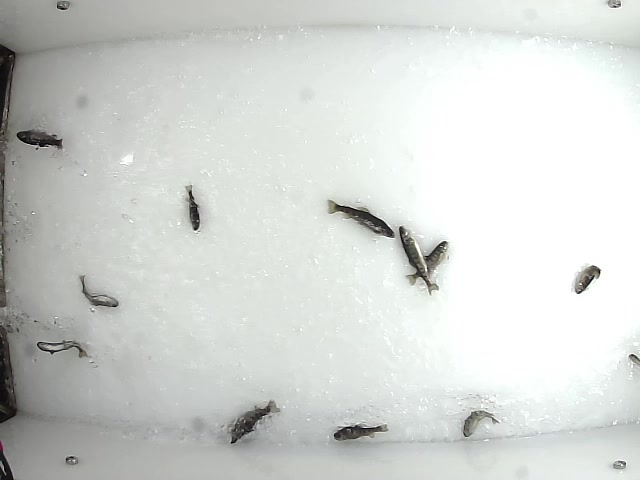fish: (396, 224, 444, 296), (323, 196, 396, 238), (224, 397, 281, 443), (402, 235, 451, 286), (77, 273, 122, 309), (459, 404, 501, 440), (332, 418, 390, 440), (34, 338, 90, 360), (13, 128, 65, 151), (182, 181, 203, 231), (573, 263, 602, 294)
